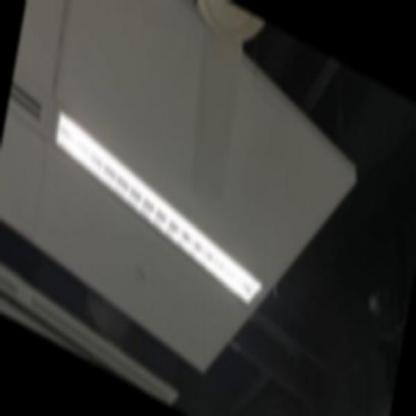light_on: (34, 90, 282, 333)
